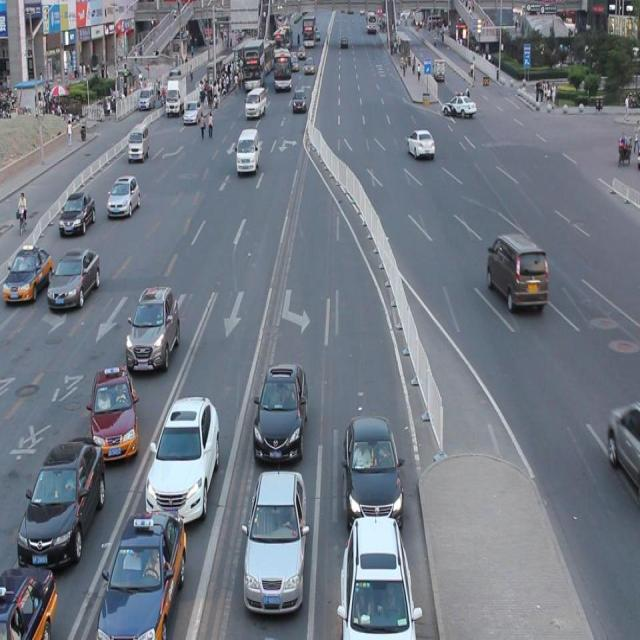car: (94, 507, 188, 640), (18, 432, 106, 569), (338, 509, 417, 640), (144, 389, 221, 522), (244, 466, 308, 614), (343, 408, 404, 526), (252, 358, 309, 462), (484, 230, 548, 313), (125, 280, 181, 369), (89, 362, 140, 458), (0, 560, 56, 640), (48, 246, 100, 310), (1, 244, 53, 304), (606, 403, 640, 491), (59, 190, 96, 236), (107, 174, 141, 218)
truck: (236, 128, 260, 174), (128, 124, 150, 162)
